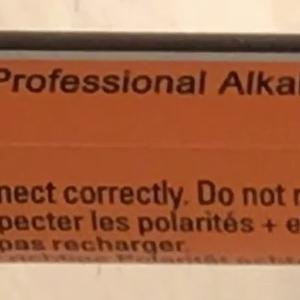keyword: (208, 61, 276, 105)
